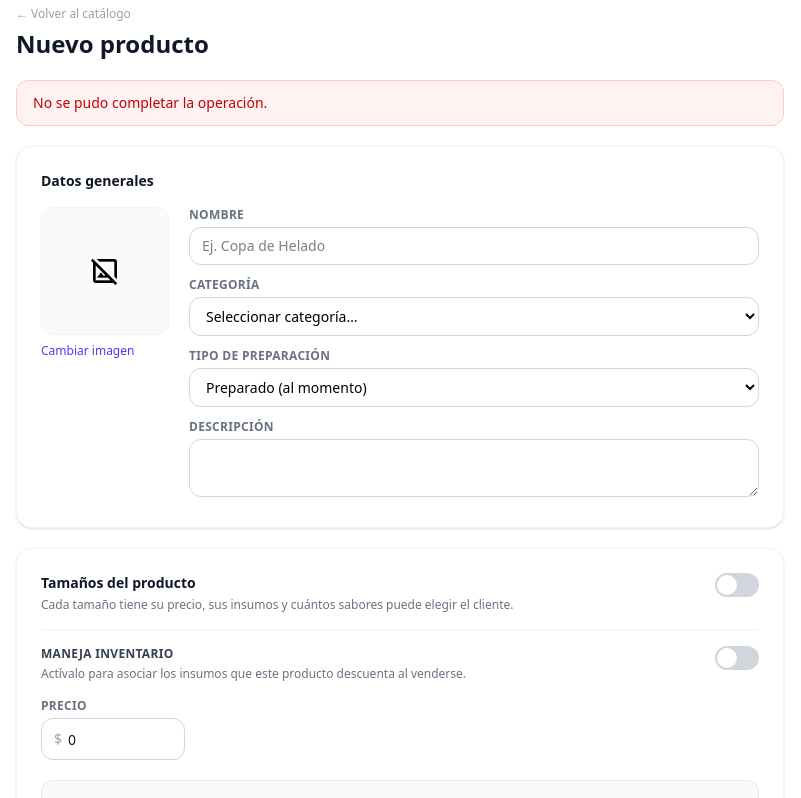
ProductFormComponent › advierte de inmediato si el switch está activado y ninguna presentación tiene insumos (FR-013)
The image size is (801, 798).
Click the switch named "Actívalo si este producto descuenta insumos del inventario a".
click(737, 658)  # box 715,646 -> 759,670
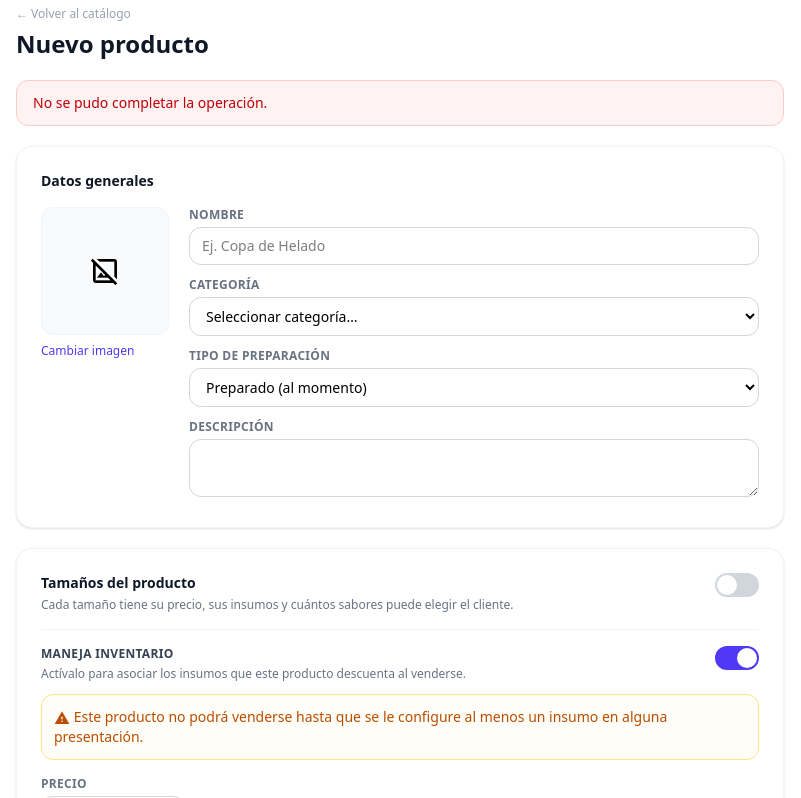
Now the text "Este producto no podrá venderse hasta que se le configure al menos un insumo" is shown, box 54,707 -> 667,746
